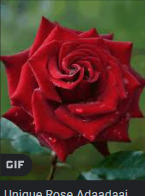RedRose: (1, 17, 143, 154)
